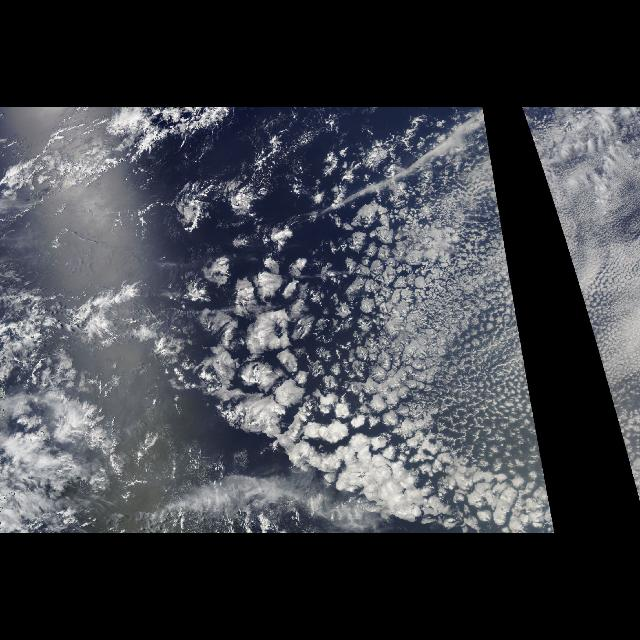Flower: (158, 159, 388, 461)
